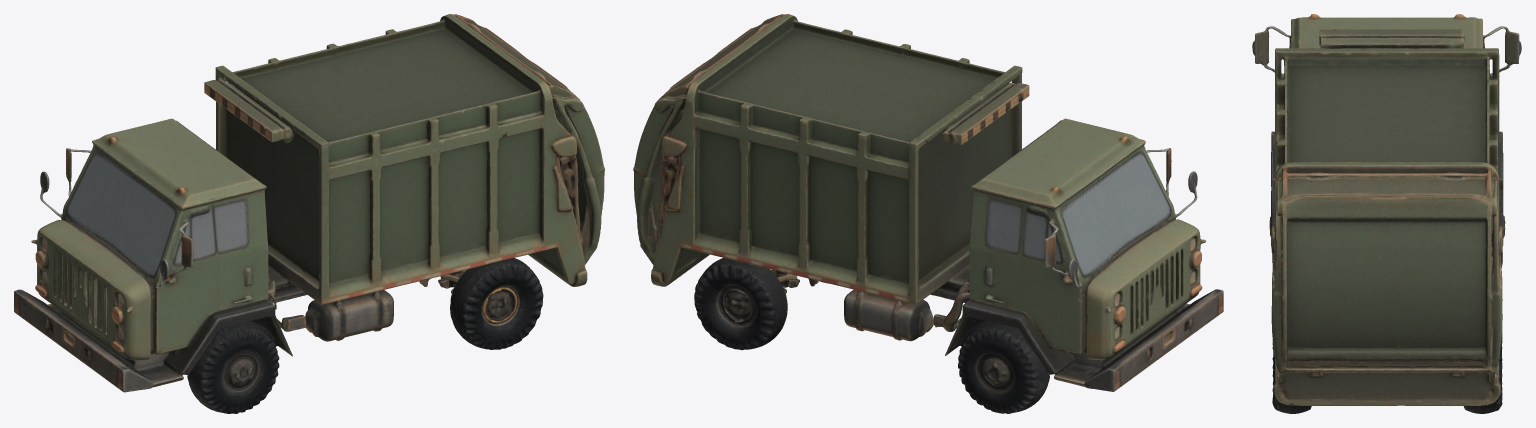
Rendered from garbage_truck.glb.
3 views of the same model, side by side, from view 1: azimuth 30°, elevation 25°; view 2: azimuth 150°, elevation 25°; view 3: azimuth 270°, elevation 25° (orthographic). The views are drawn at different scales.
Visible parts, largest first — view 1: garbageTruck-mesh_0; view 2: garbageTruck-mesh_0; view 3: garbageTruck-mesh_0.
Boxes of the visible parts, x1=… form: garbageTruck-mesh_0: x1=14, y1=14, x2=604, y2=413; garbageTruck-mesh_0: x1=633, y1=14, x2=1223, y2=413; garbageTruck-mesh_0: x1=1252, y1=14, x2=1521, y2=413.
Bounding box in the file's own units: 1.9 × 0.9547 × 0.8592.
1 material, 1 textured.
